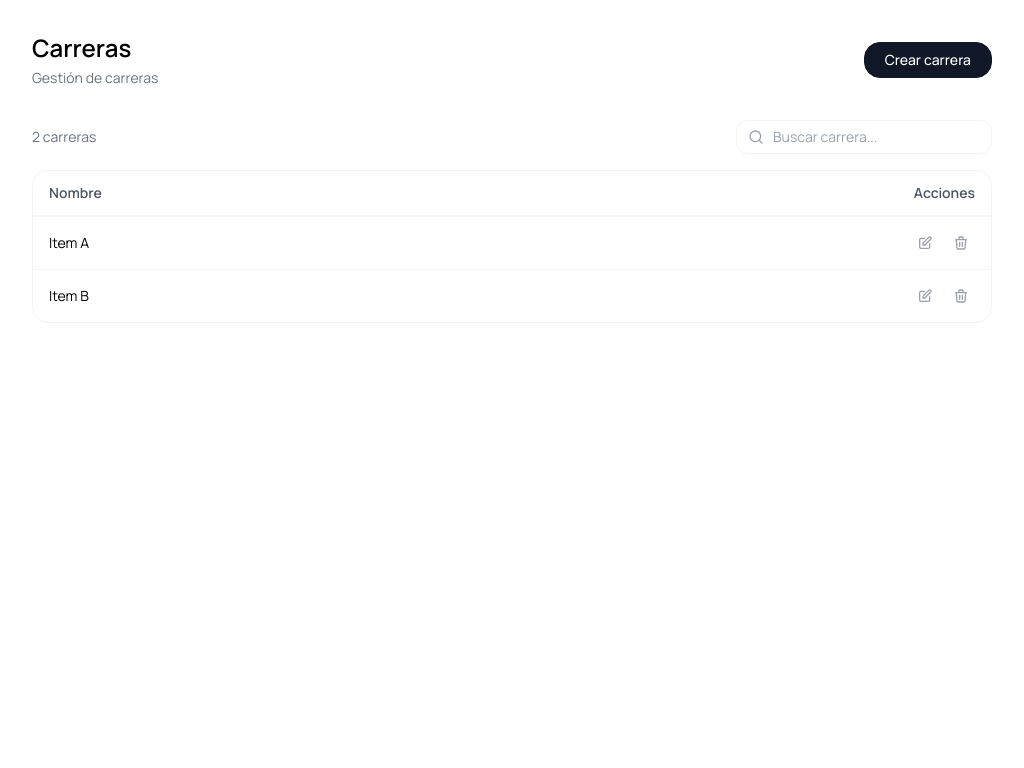
Test: CrudAdminPage › abre el modal de crear al hacer click en Crear
expect the text "Item A" is shown: met, box [33, 216, 895, 270]
Click the button "Crear carrera" at [928, 60], box [864, 42, 992, 78]
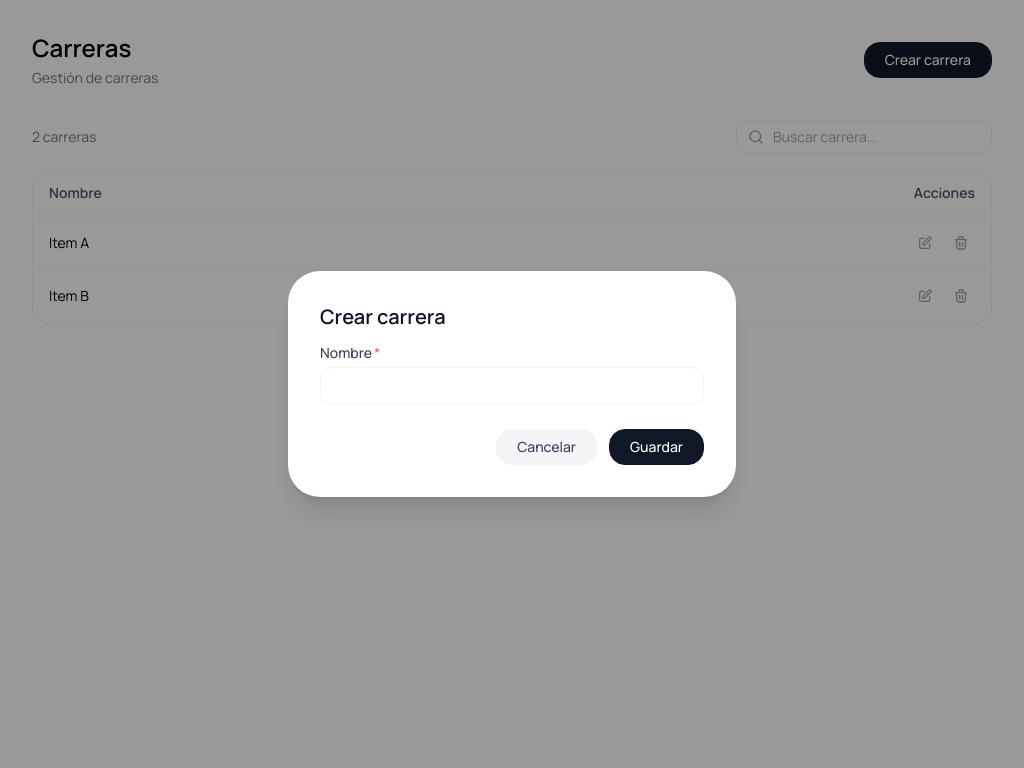
expect the heading "Crear carrera" is shown: met, box [320, 303, 446, 330]
